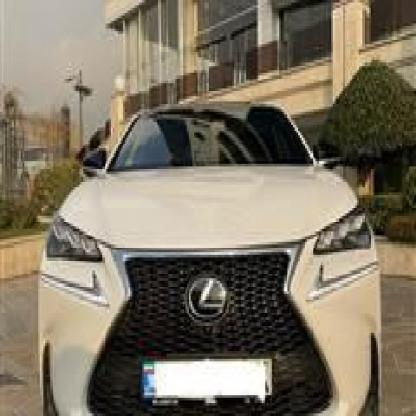Car: (32, 93, 386, 416)
